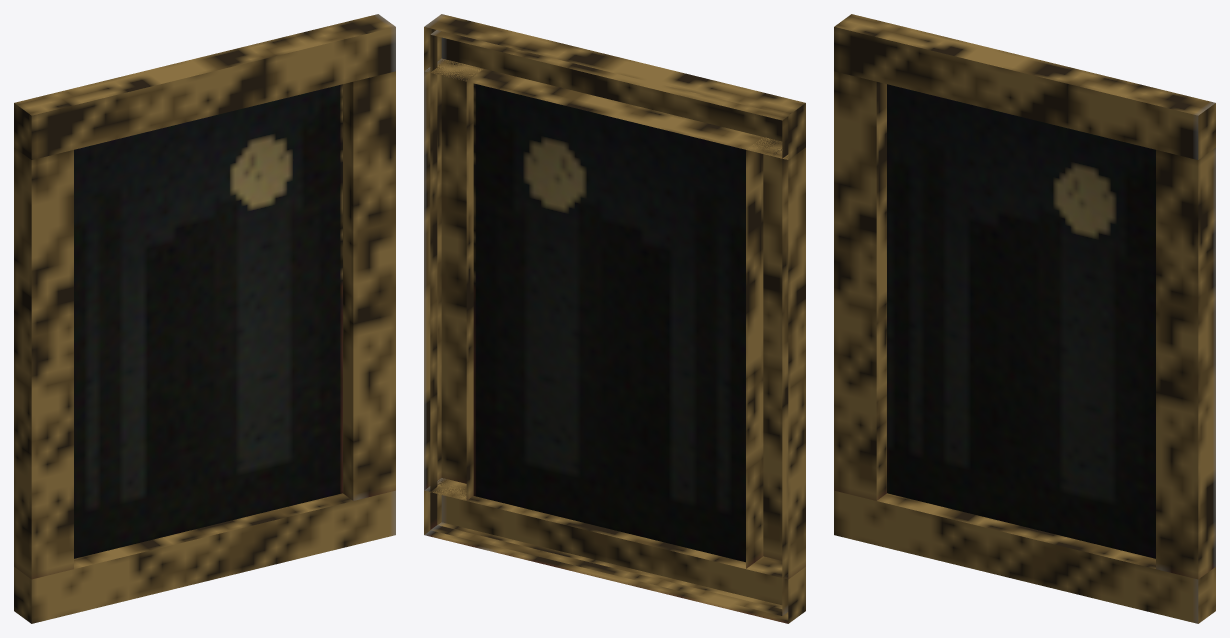
File: Atmos_Painting_Forest.fbx
3 renders of one model, left to right at view 1: azimuth 30°, elevation 25°; view 2: azimuth 150°, elevation 25°; view 3: azimuth 330°, elevation 25°, orthographic.
Parts seen in each view (by area): view 1: Atmos_Painting_Forest; view 2: Atmos_Painting_Forest; view 3: Atmos_Painting_Forest.
Part boxes in pixels (box(x1,y1,x2,y2)): Atmos_Painting_Forest: box(14, 14, 395, 623); Atmos_Painting_Forest: box(424, 14, 805, 623); Atmos_Painting_Forest: box(834, 14, 1215, 623).
Size of the model in its own units: 60 by 80 by 5.
Materials: 1 (1 with a texture image).
